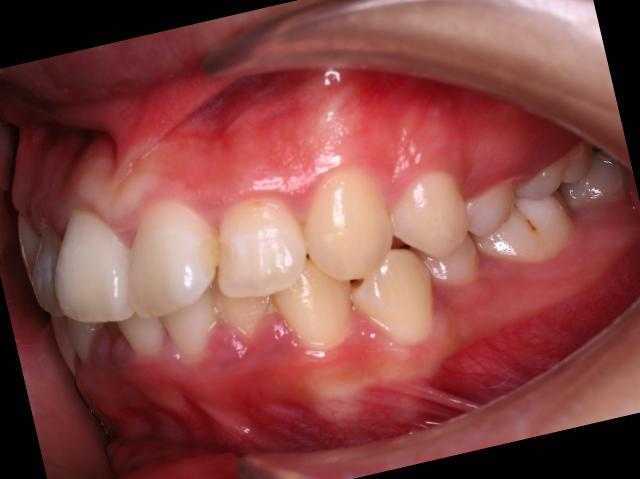canine class I: (242, 144, 448, 388)
molar class III 1/2: (454, 133, 625, 283)
